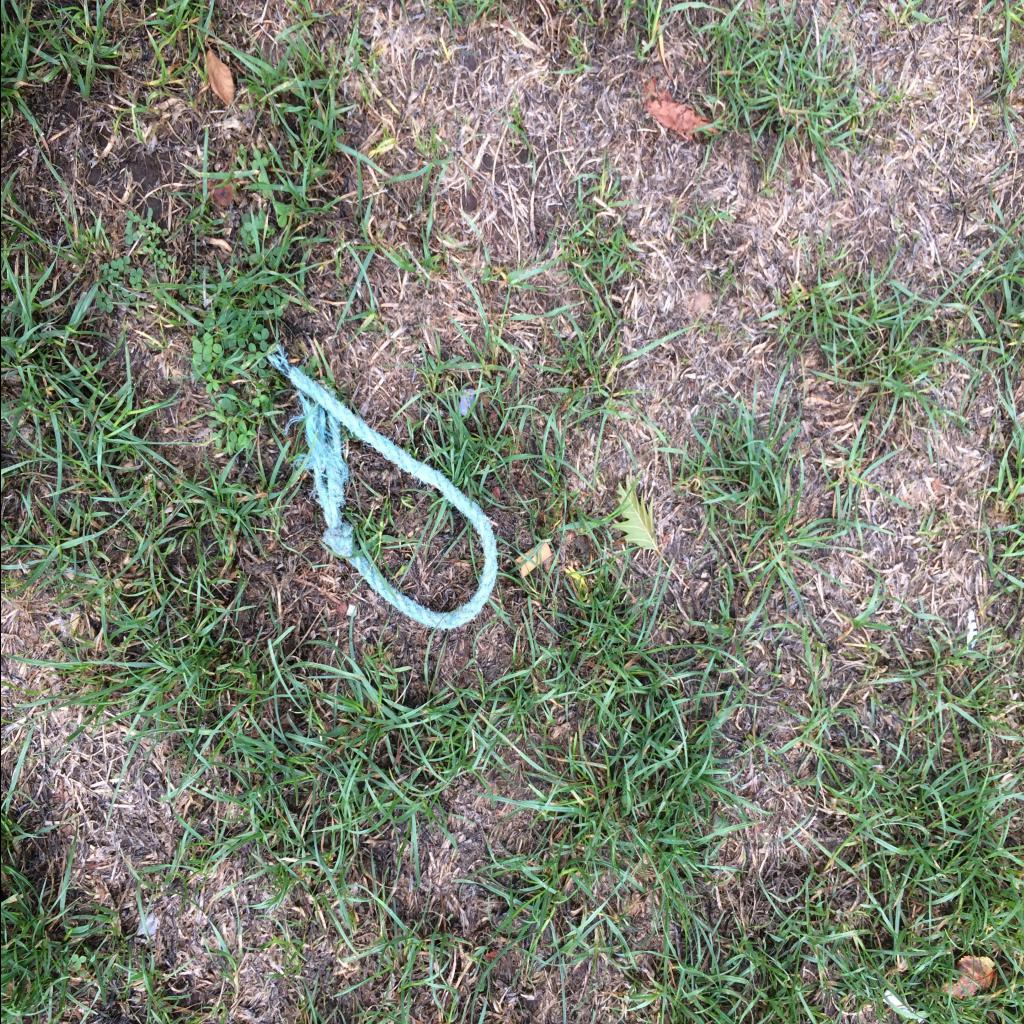Cigarette: (514, 542, 550, 577)
Rope - strings: (268, 344, 496, 630)
